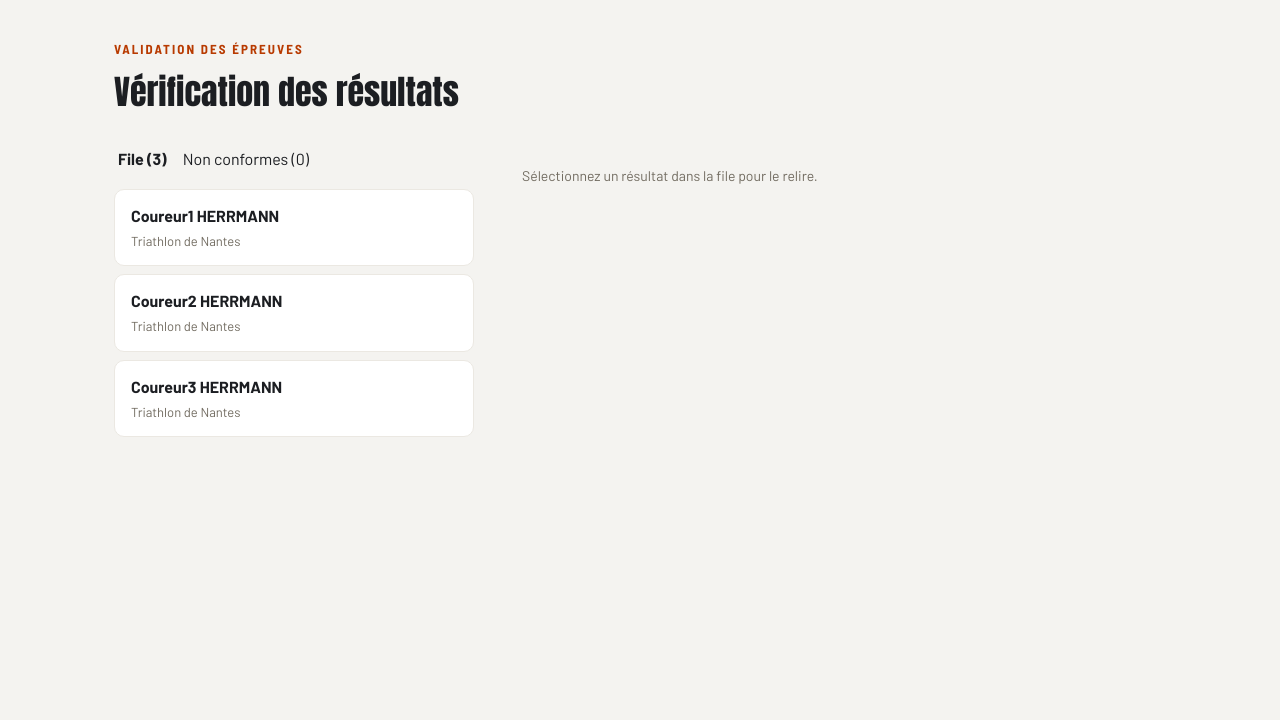
BenevolesPage › SSO user holding benevole_access:manage (#1272) › explains an expired SSO session above the password form, with a sign-in link
Step 1. Click the button "Coureur1 HERRMANN Triathlon de Nantes" → [162, 215], box [114,188,474,266]
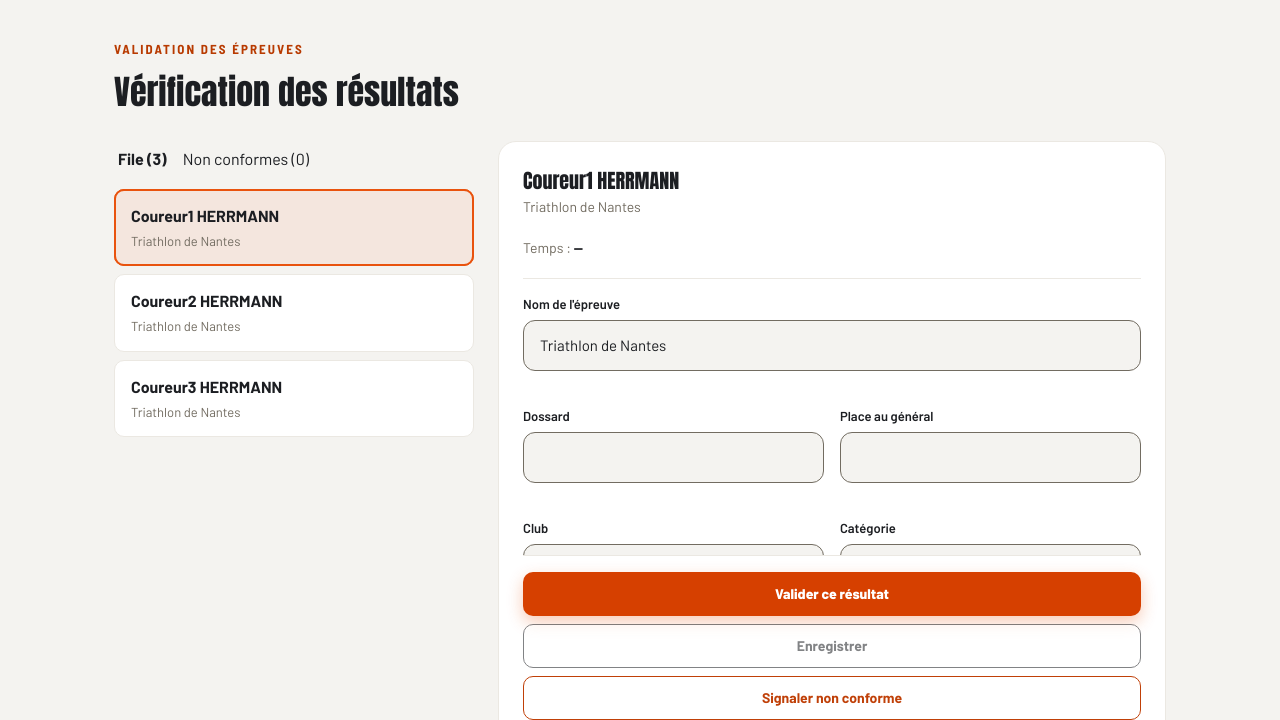
Step 2. Click the button "Valider ce résultat" → [832, 594], box [523,572,1141,616]
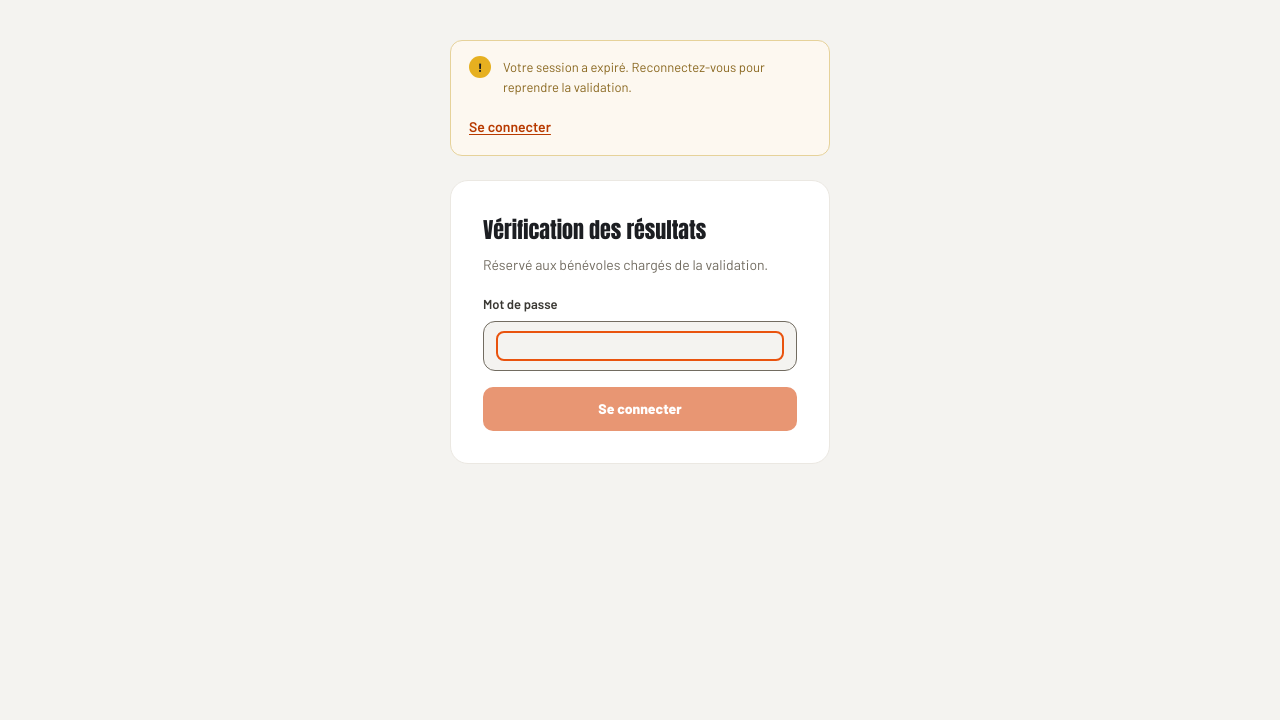
Expected: the password field labelled "Mot de passe" is shown, [500,334,780,357]
